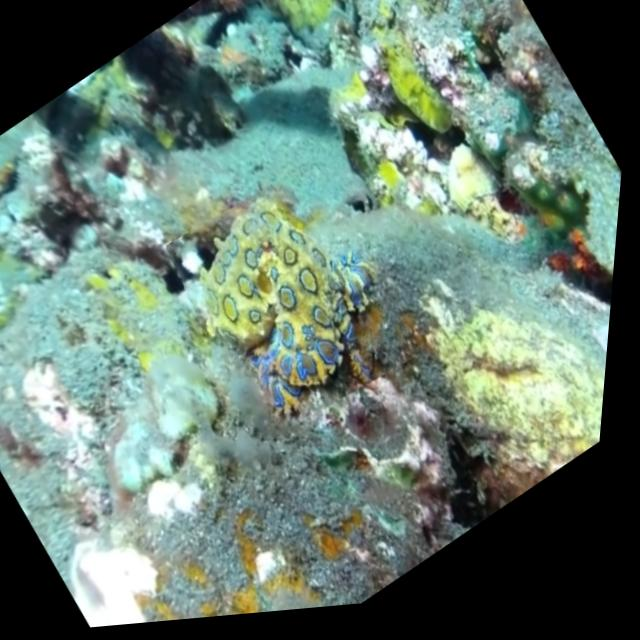blue_ringed_octopus: (145, 147, 446, 468)
